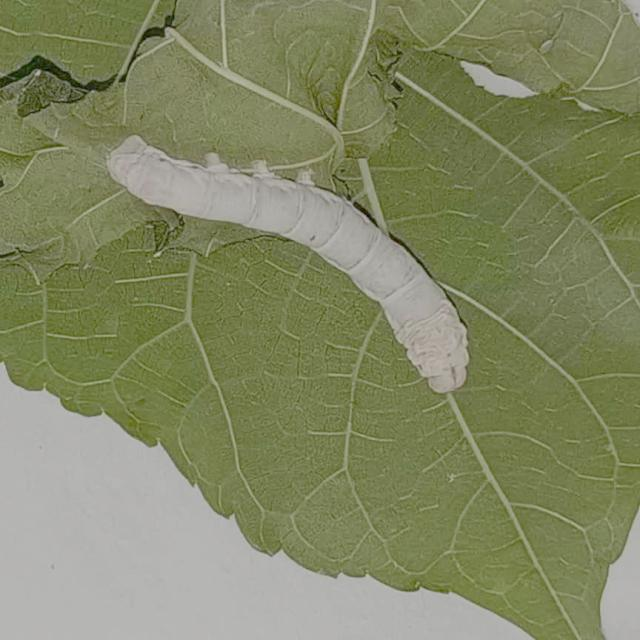Healthy: (91, 116, 489, 410)
